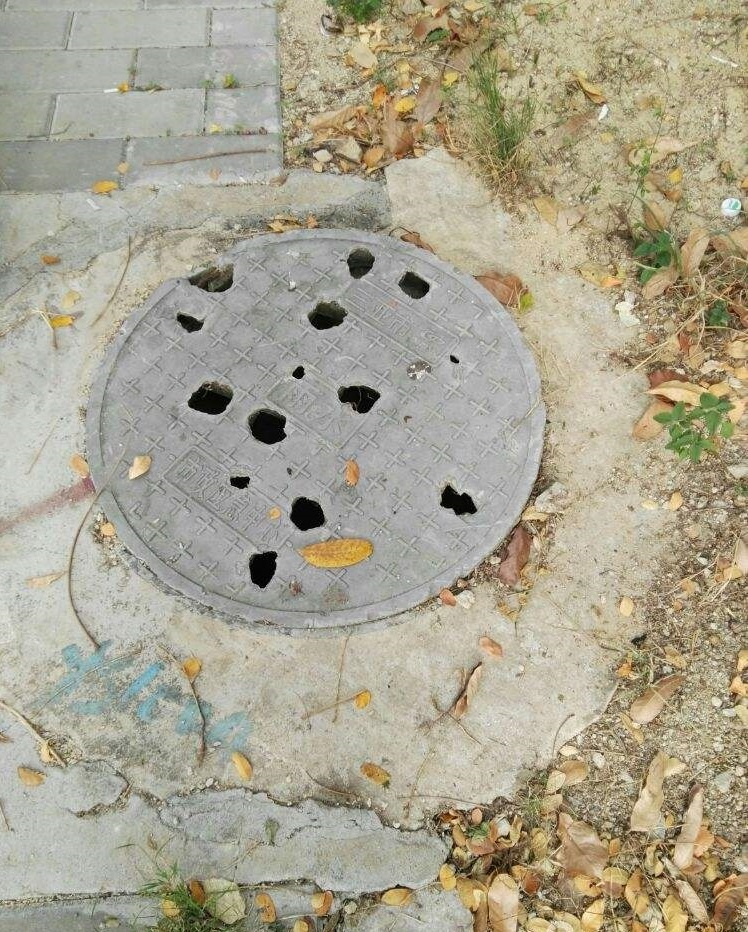broke: (85, 227, 547, 628)
